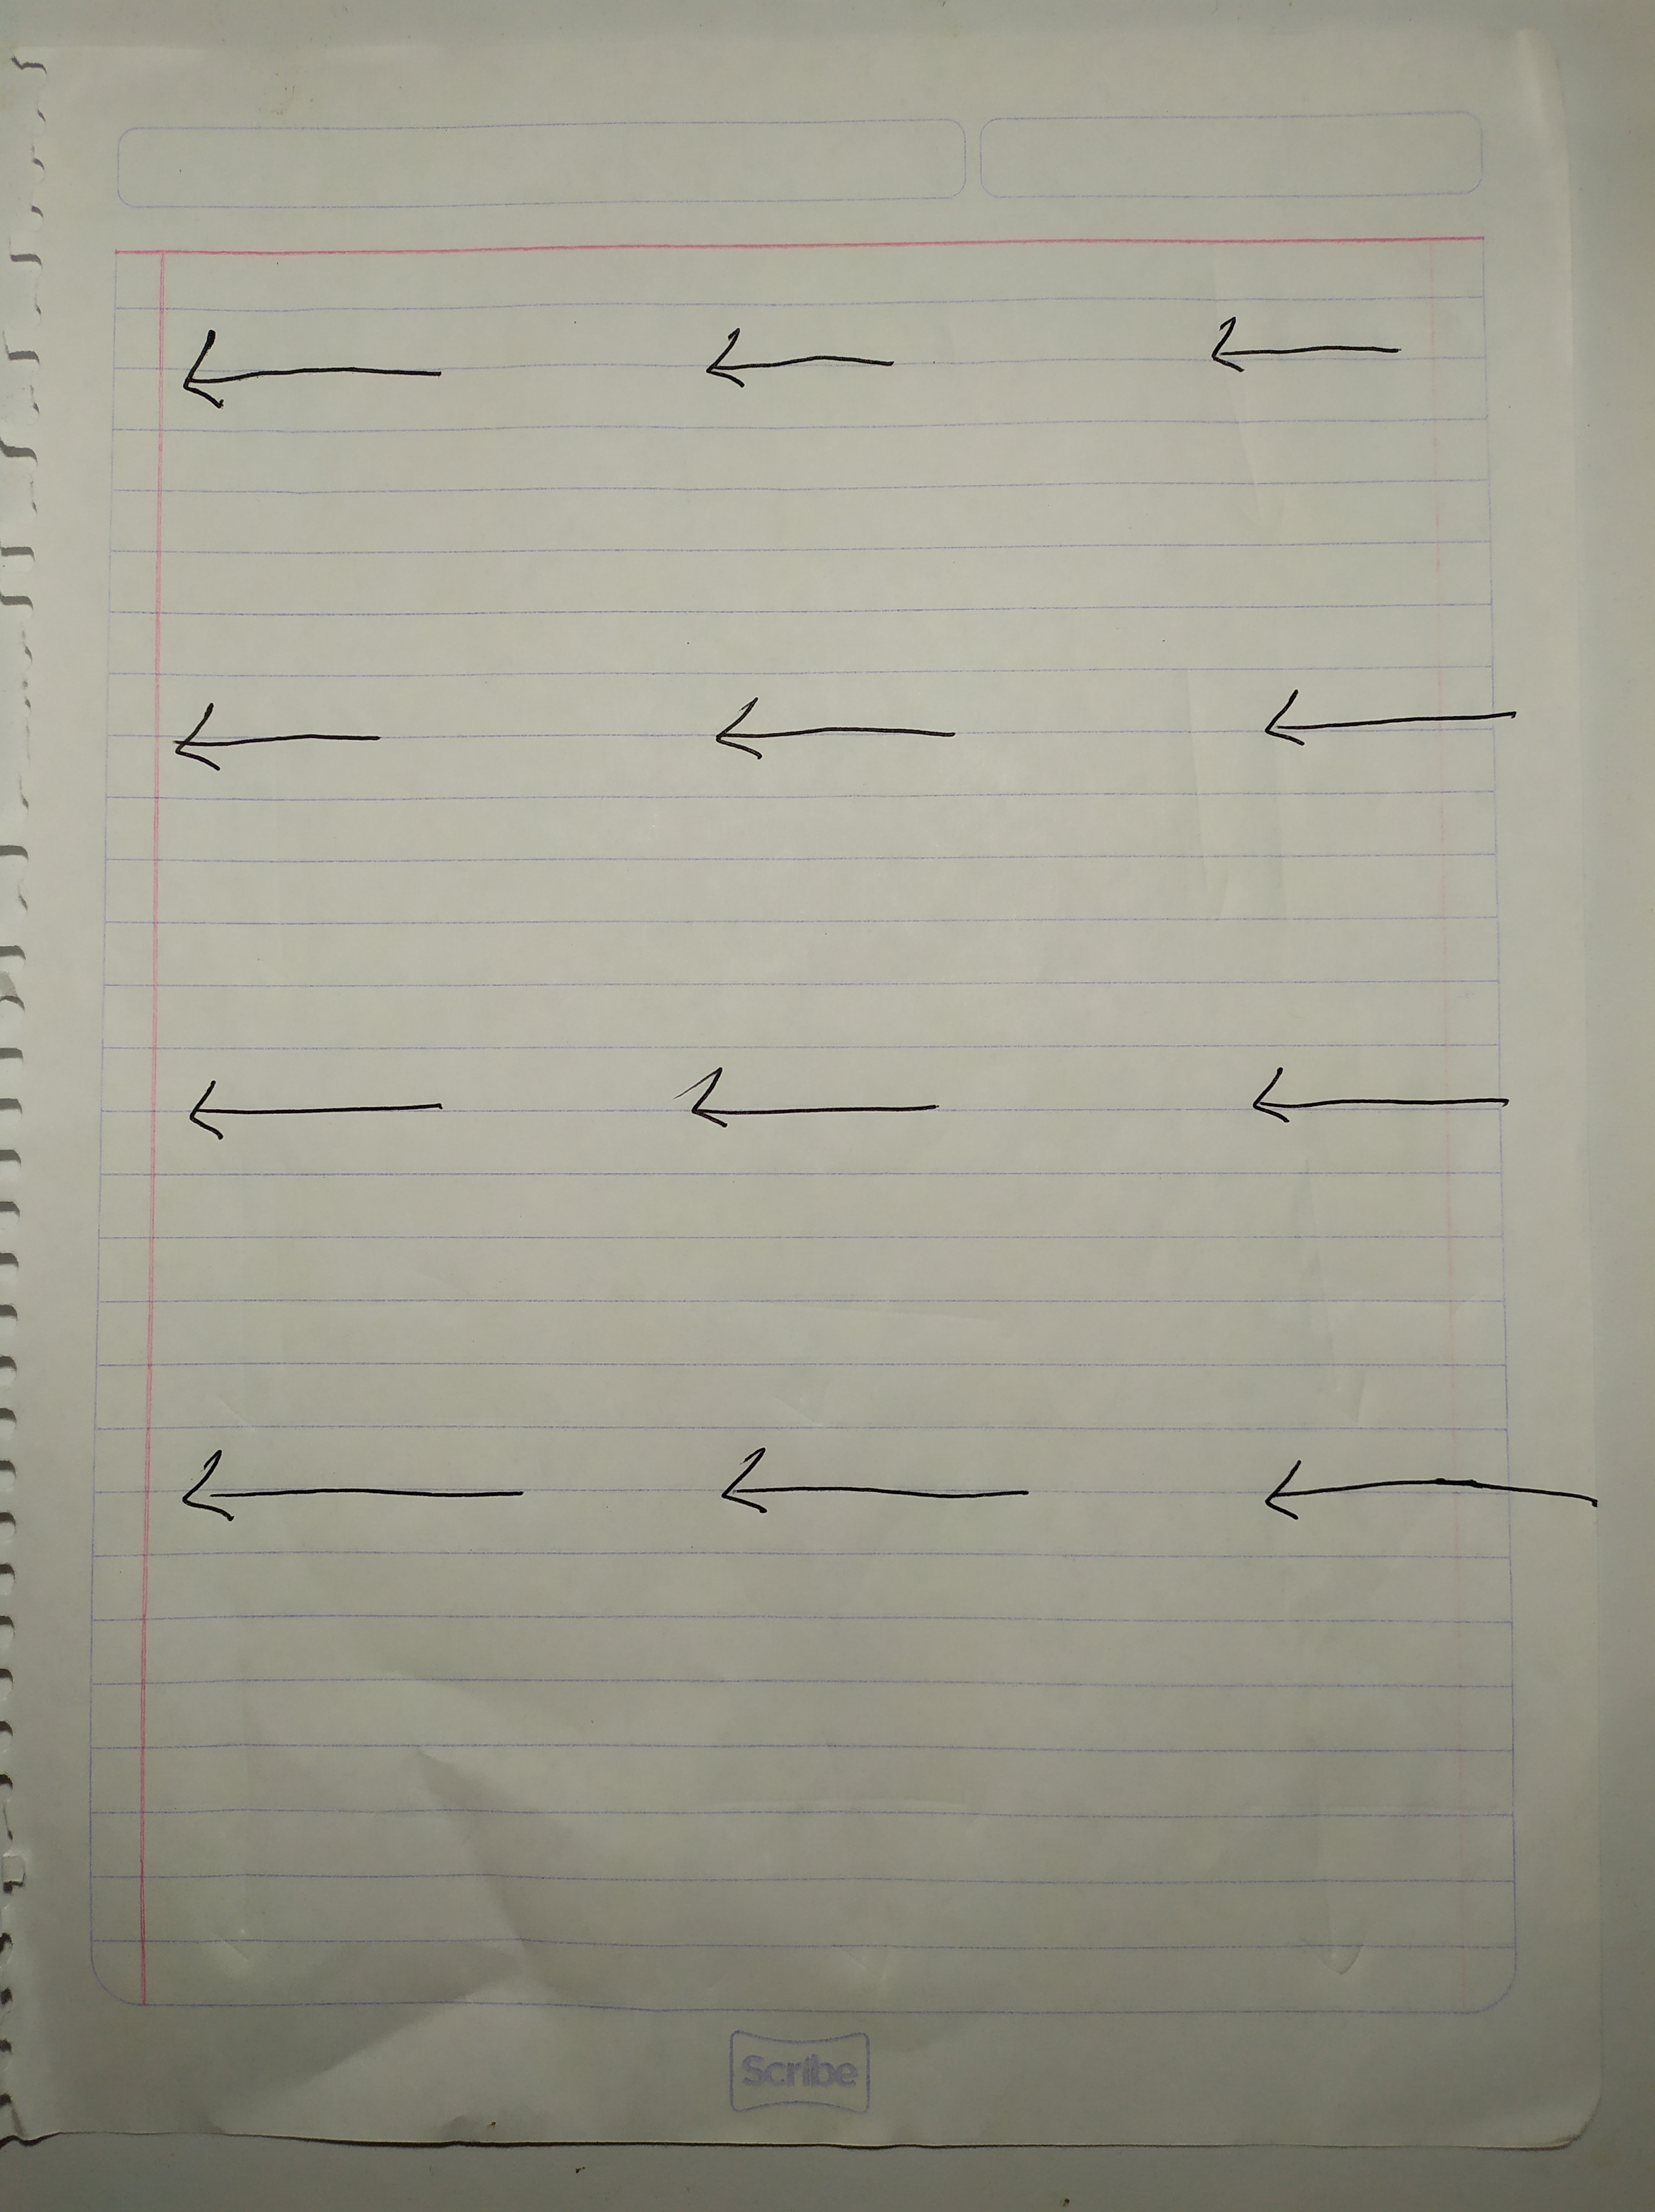arrow_line_left: (685, 1435, 1055, 1553), (1238, 1447, 1612, 1564), (143, 1428, 542, 1536), (139, 309, 476, 434), (673, 1041, 1000, 1169), (1177, 304, 1460, 426), (681, 681, 989, 789), (1226, 1053, 1549, 1152), (1224, 672, 1552, 766), (148, 1069, 487, 1159), (143, 681, 421, 784), (664, 309, 927, 412)
